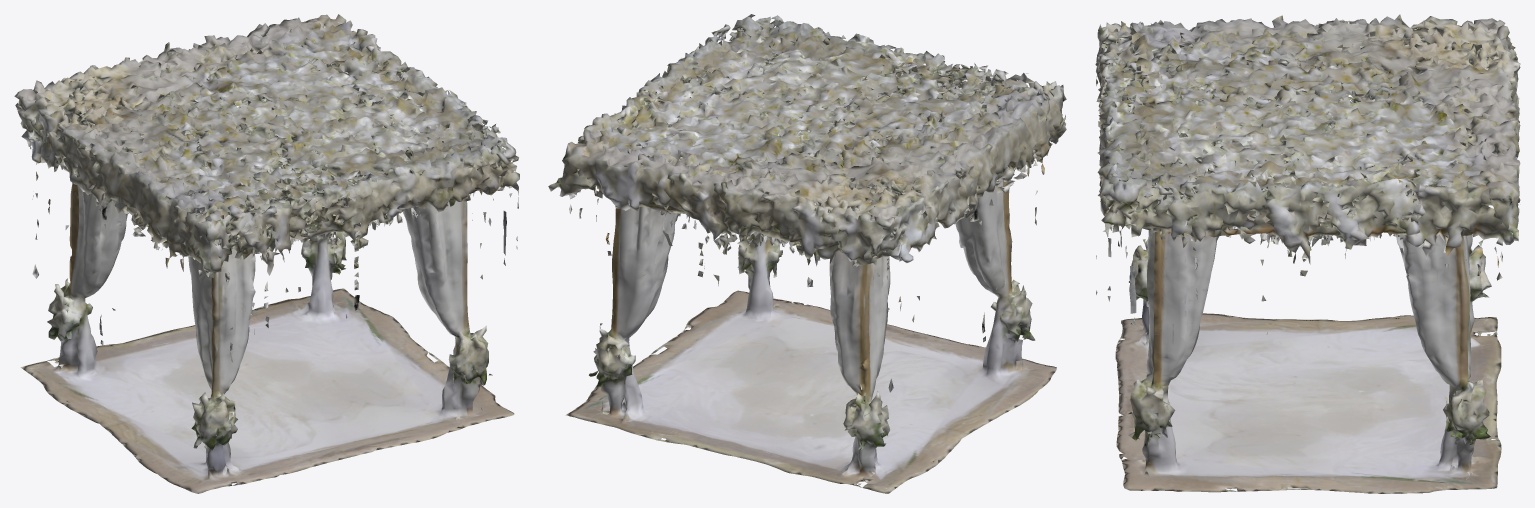
Rendered from Mandap_1.glb.
3 renders of one model, left to right at view 1: azimuth 30°, elevation 25°; view 2: azimuth 150°, elevation 25°; view 3: azimuth 270°, elevation 25°, orthographic. The views are drawn at different scales.
Bounding box in the file's own units: 1.99 × 1.61 × 1.98.
Materials: 1 (1 with a texture image).
